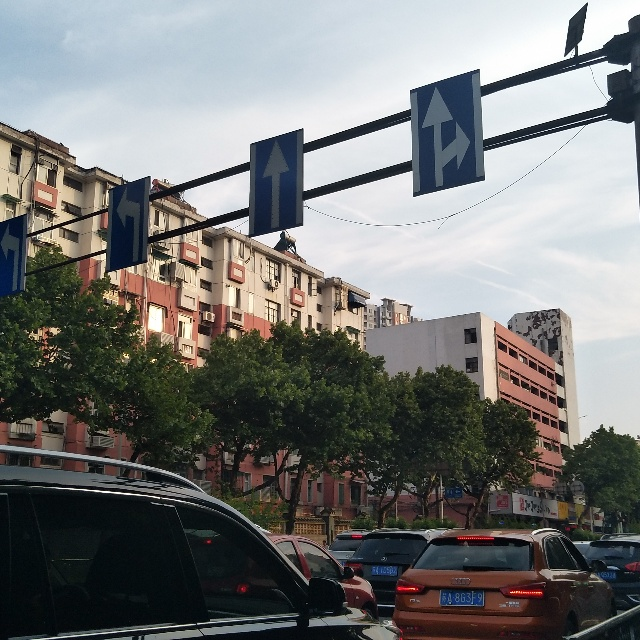left: (100, 176, 152, 268), (1, 217, 21, 297)
straight: (253, 135, 300, 225)
